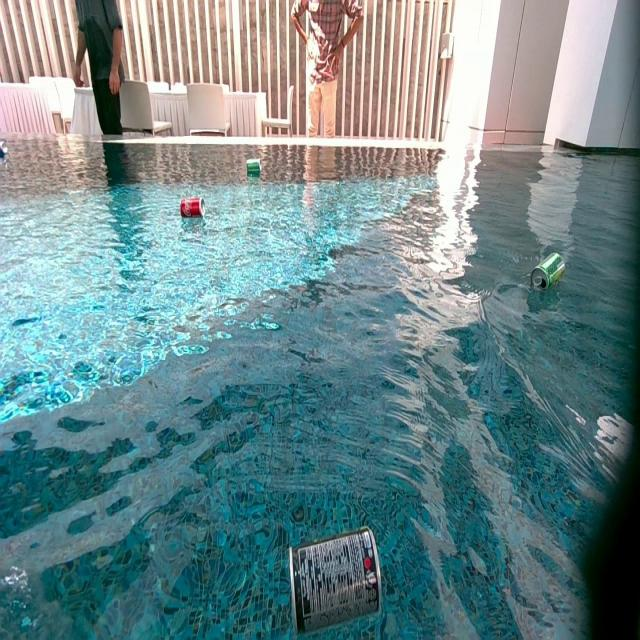Cans: (290, 528, 389, 638), (530, 252, 566, 294), (179, 199, 204, 219), (247, 160, 261, 178), (0, 142, 10, 157)
